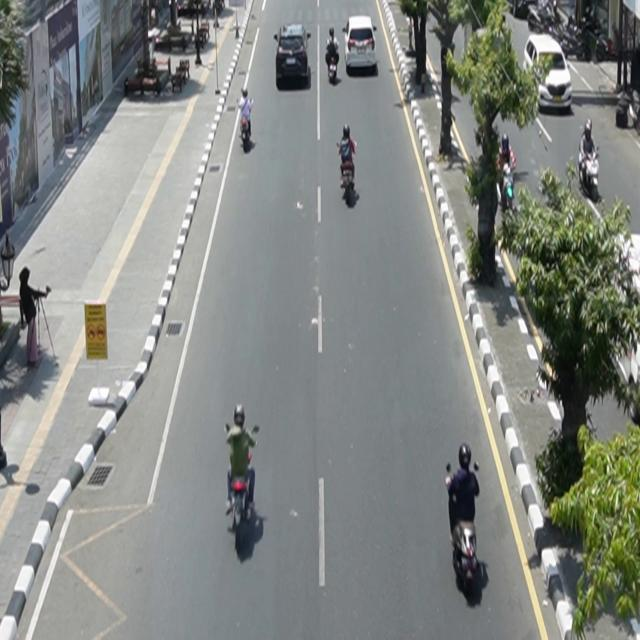car: (524, 34, 574, 113), (275, 24, 312, 85), (343, 16, 378, 74)
